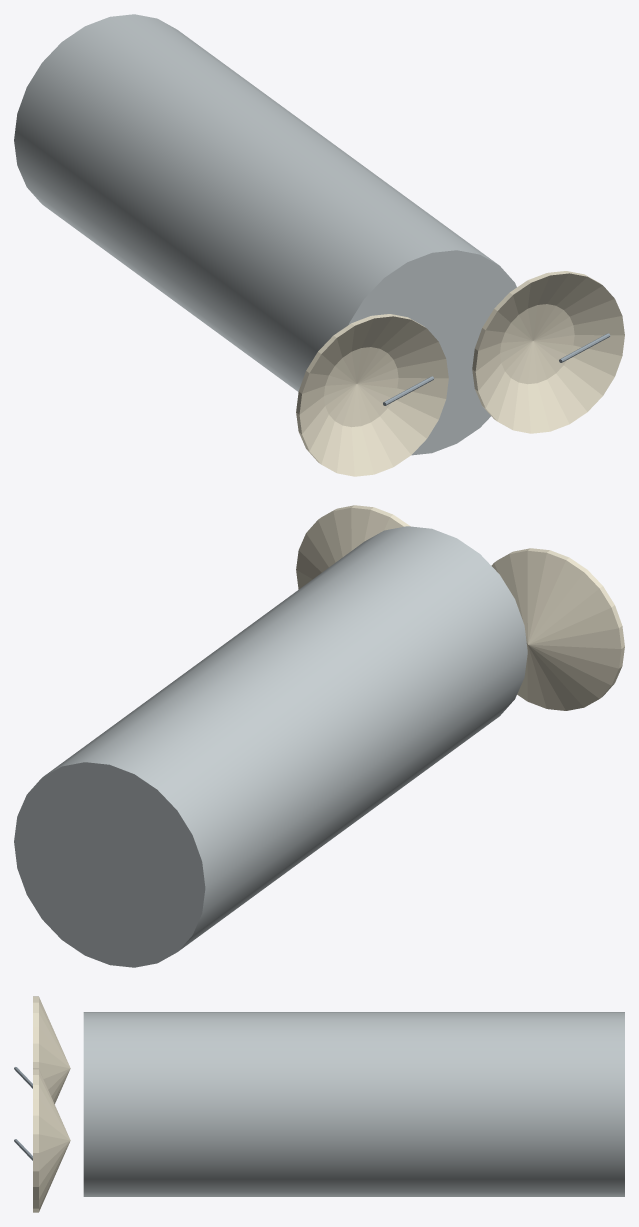
Rendered from ref-sds-12093.glb.
3 views of the same model, one above another, from view 1: azimuth 30°, elevation 25°; view 2: azimuth 150°, elevation 25°; view 3: azimuth 270°, elevation 25° (orthographic). The views are drawn at different scales.
Visible parts, largest first — view 1: Spacecraft body, Reflector dish (×2); view 2: Spacecraft body, Reflector dish (×2); view 3: Spacecraft body, Reflector dish (×2).
Part boxes in pixels (<box>): Spacecraft body: <box>14,14,516,455</box>; Reflector dish (×2): <box>296,271,624,476</box>; Spacecraft body: <box>14,526,527,967</box>; Reflector dish (×2): <box>296,505,624,710</box>; Spacecraft body: <box>83,1012,624,1196</box>; Reflector dish (×2): <box>33,996,70,1212</box>.
Bounding box in the file's own units: 4.08 × 2.4 × 7.9.
